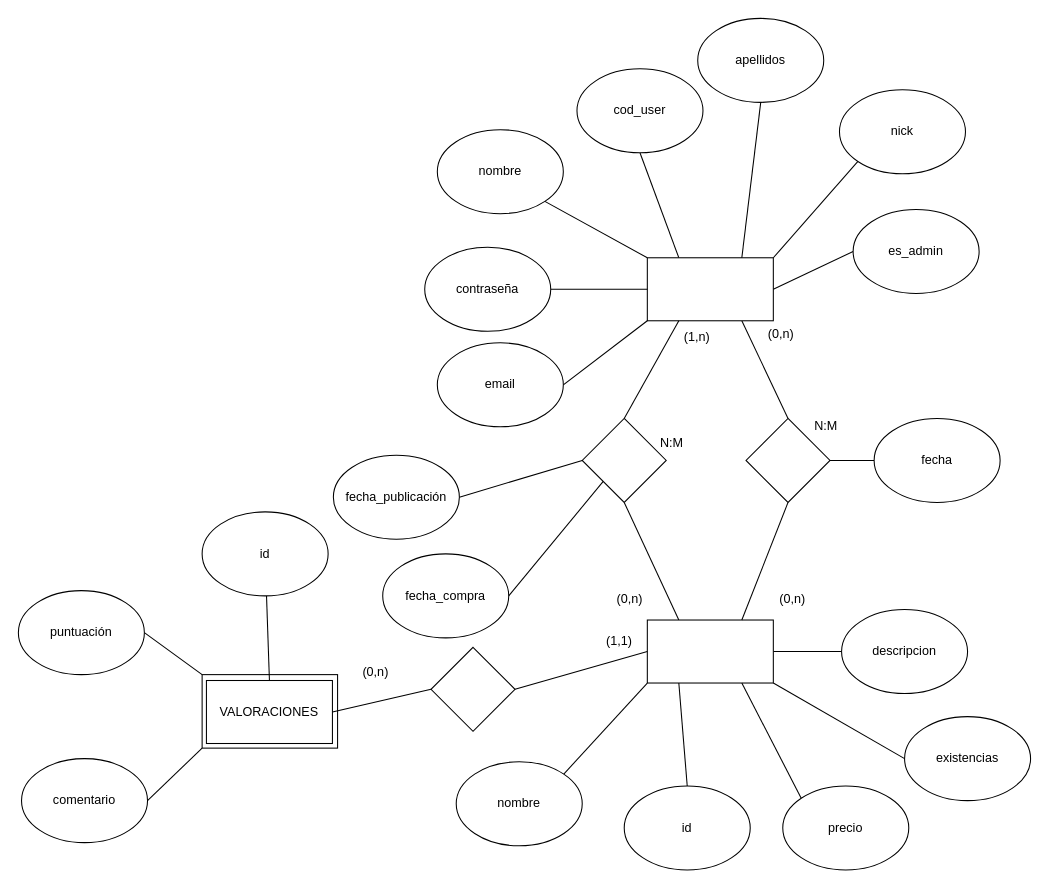
Image size: 1049x888. Some labels were removed from this diagram. Here are the shapes that lost their labels. From the top down, the box of each, then its label:
(646, 257, 773, 321): USUARIOS
(581, 417, 666, 502): venden
(745, 417, 830, 502): compran
(646, 619, 773, 683): ARTICULOS
(430, 646, 515, 731): tiene
